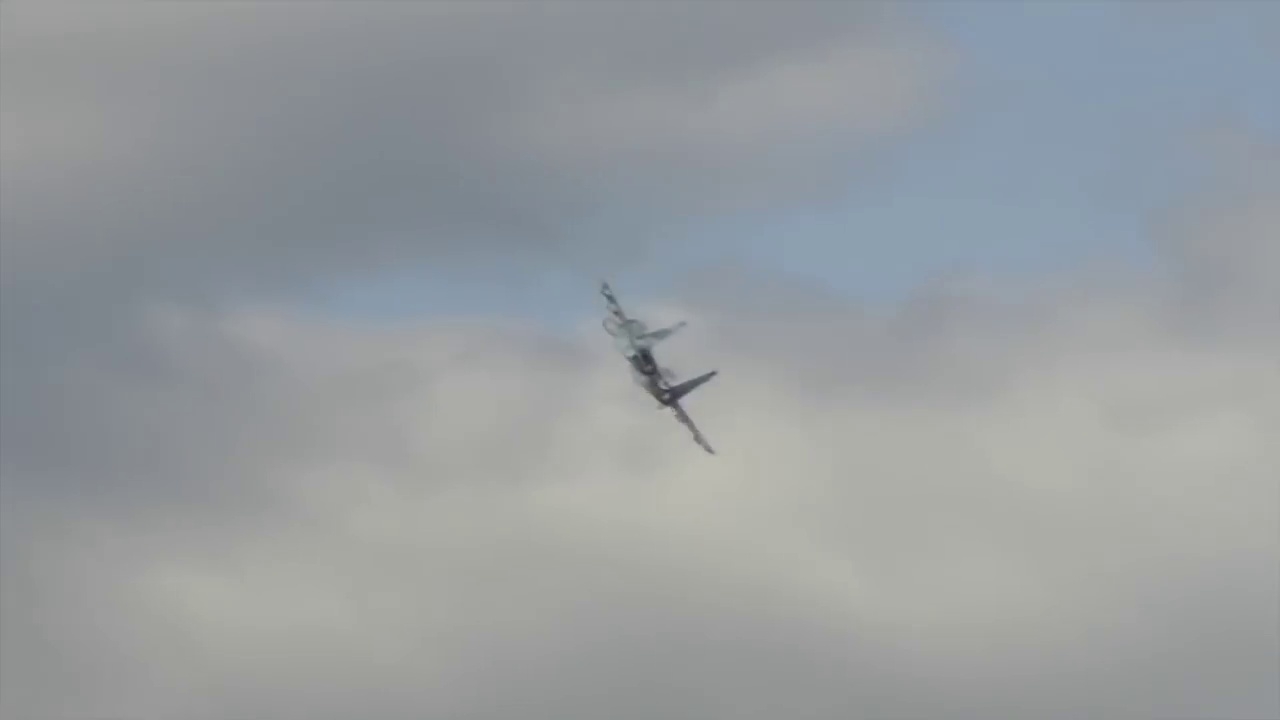Su35: (590, 273, 732, 464)
